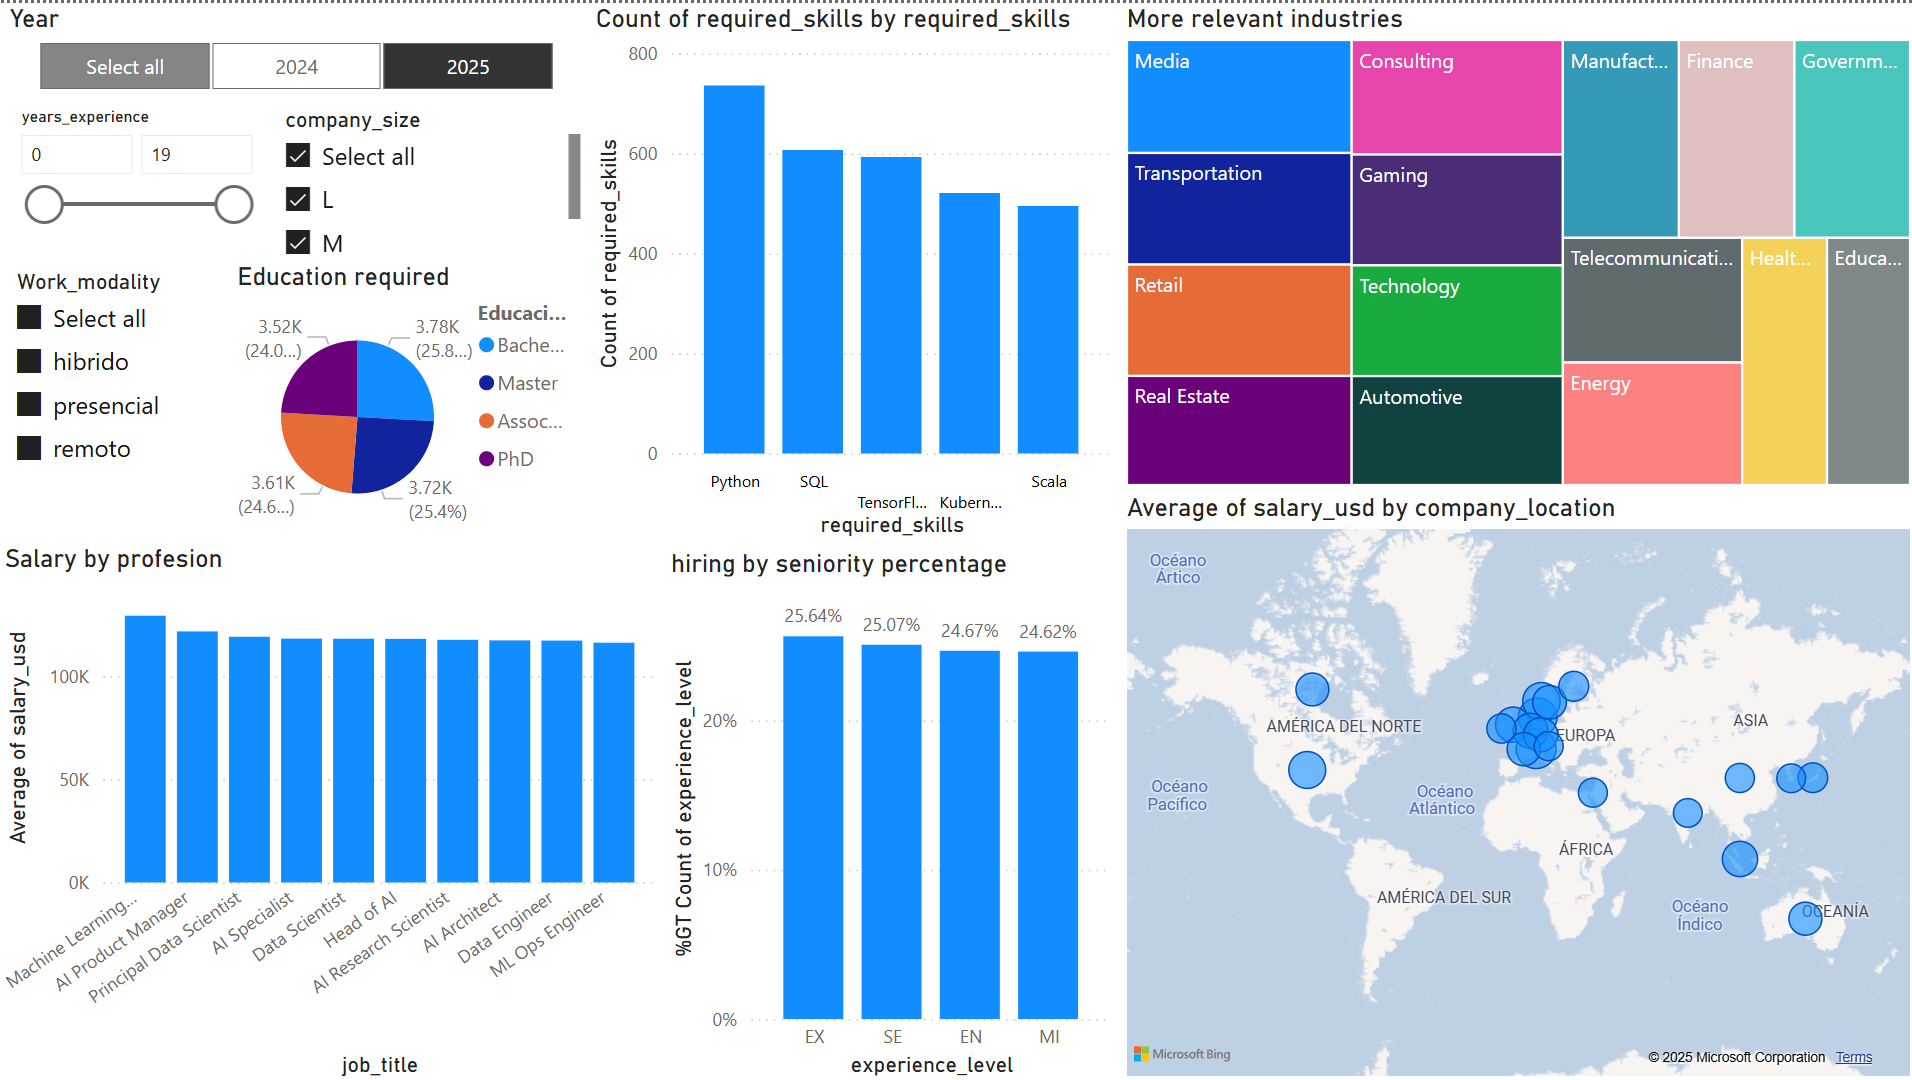

The page's visual inventory and layout, read from the dashboard file:
{"tool":"powerbi","page":{"name":"Página 1","canvas":[1280,720],"ordinal":0},"visuals":[{"type":"slicer","fields":{"Values":["ai_job_dataset.years_experience"]},"box":[3.2,64.1,175.6,108.3],"z":0},{"type":"columnChart","title":"Salario por profesion ","fields":{"Y":["Avg(ai_job_dataset.salary_usd)"],"Category":["ai_job_dataset.job_title"]},"box":[0,359.7,443.8,360.7],"z":1000},{"type":"treemap","title":"Industrias mas relevantes","fields":{"Values":["ai_job_dataset.CANTIDAD_INDUSTRIA"],"Group":["ai_job_dataset.industry"]},"box":[747.7,0,532.1,326],"z":2000},{"type":"slicer","fields":{"Values":["ai_job_dataset.company_size"]},"box":[178.8,64.1,215.6,109.4],"z":3000},{"type":"pieChart","title":"Nivel educativo solicitado","fields":{"Category":["ai_job_dataset.education_required"],"Y":["CountNonNull(ai_job_dataset.education_required)"]},"box":[154.6,172.5,239.8,187.2],"z":4000},{"type":"map","fields":{"Size":["Avg(ai_job_dataset.salary_usd)"],"Category":["ai_job_dataset.company_location"]},"box":[747.7,326,532.1,394.4],"z":5000},{"type":"columnChart","title":"Porcentaje de contrataciones por seniority","fields":{"Category":["ai_job_dataset.experience_level"],"Y":["CountNonNull(ai_job_dataset.experience_level)"]},"box":[443.8,362.8,303.9,357.6],"z":6000},{"type":"slicer","fields":{"Values":["ai_job_dataset.Tipo_trabajo"]},"box":[0,172.5,154.6,187.2],"z":7000},{"type":"columnChart","fields":{"Category":["ai_job_dataset.required_skills"],"Y":["CountNonNull(ai_job_dataset.required_skills)"]},"box":[394.4,0,353.3,359.7],"z":8000},{"type":"slicer","fields":{"Values":["ai_job_dataset.posting_date.Variación.Jerarquía de fechas.Año"]},"box":[3.2,0,391.2,64.1],"z":10000}]}

Visuals, with their boxes in screenshot pixels (x1, y1, x2, y2), scaled from the page's 1280x720 canvas onto the 1912x1080 screenshot:
slicer - ai_job_dataset.years_experience: {"x1": 5, "y1": 96, "x2": 267, "y2": 259}
"Salario por profesion " columnChart: {"x1": 0, "y1": 540, "x2": 663, "y2": 1079}
"Industrias mas relevantes" treemap: {"x1": 1117, "y1": 0, "x2": 1911, "y2": 489}
slicer - ai_job_dataset.company_size: {"x1": 267, "y1": 96, "x2": 589, "y2": 260}
"Nivel educativo solicitado" pieChart: {"x1": 231, "y1": 259, "x2": 589, "y2": 540}
map - Avg(ai_job_dataset.salary_usd) x ai_job_dataset.company_location: {"x1": 1117, "y1": 489, "x2": 1911, "y2": 1079}
"Porcentaje de contrataciones por seniority" columnChart: {"x1": 663, "y1": 544, "x2": 1117, "y2": 1079}
slicer - ai_job_dataset.Tipo_trabajo: {"x1": 0, "y1": 259, "x2": 231, "y2": 540}
columnChart - ai_job_dataset.required_skills x CountNonNull(ai_job_dataset.required_skills): {"x1": 589, "y1": 0, "x2": 1117, "y2": 540}
slicer - ai_job_dataset.posting_date.Variación.Jerarquía de fechas.Año: {"x1": 5, "y1": 0, "x2": 589, "y2": 96}
